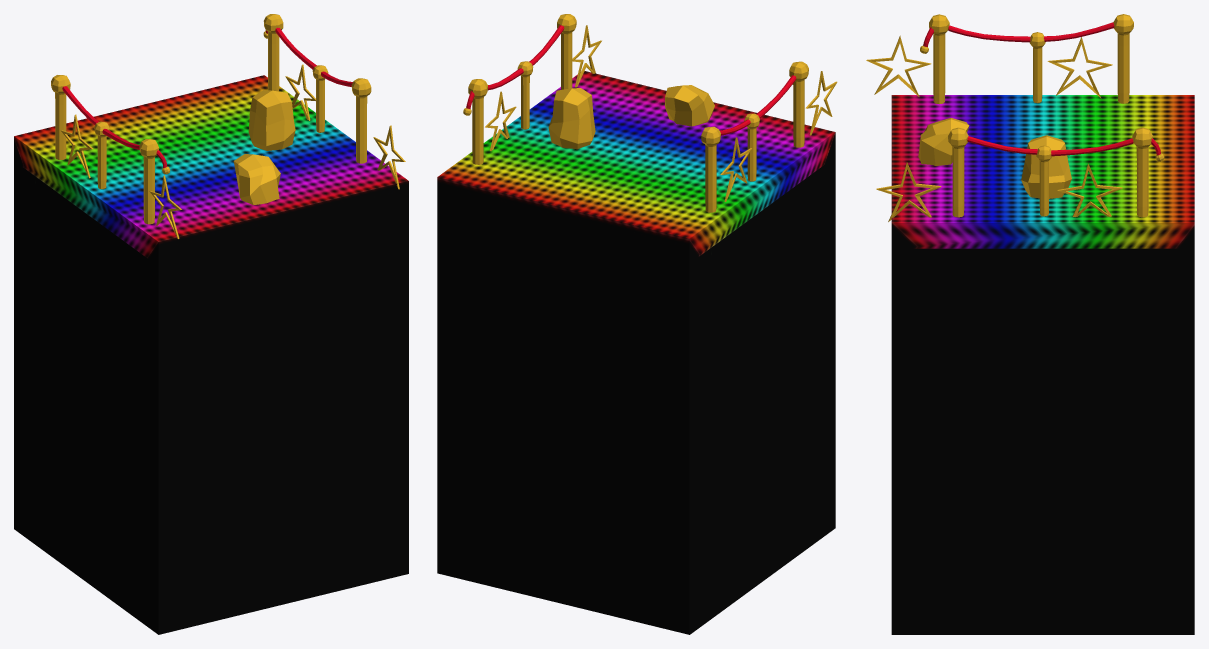
File: Plataforma Medio 2.fbx
The picture shows the model from 3 angles, left to right: view 1: azimuth 30°, elevation 25°; view 2: azimuth 150°, elevation 25°; view 3: azimuth 270°, elevation 25°; orthographic projection. The views are drawn at different scales.
Parts seen in each view (by area): view 1: Plataforma Mitad 2, Cube.012, Cube.009, Plane.003, Cube.011, Cube.021; view 2: Plataforma Mitad 2, Cube.012, Cube.009, Plane.003, Cube.011, Cube.021; view 3: Plataforma Mitad 2, Cube.012, Plane.003, Cube.021, Cube.009, Cube.011.
Part boxes in pixels (<box>): Plataforma Mitad 2: <box>14,75,408,634</box>; Cube.012: <box>51,14,371,224</box>; Cube.009: <box>248,90,295,150</box>; Plane.003: <box>61,64,405,238</box>; Cube.011: <box>233,154,280,204</box>; Cube.021: <box>62,27,352,174</box>; Plataforma Mitad 2: <box>437,71,835,634</box>; Cube.012: <box>468,14,808,212</box>; Cube.009: <box>548,88,595,149</box>; Plane.003: <box>485,25,837,201</box>; Cube.011: <box>665,85,714,126</box>; Cube.021: <box>463,25,796,135</box>; Plataforma Mitad 2: <box>891,95,1194,634</box>; Cube.012: <box>929,14,1152,217</box>; Plane.003: <box>866,35,1122,221</box>; Cube.021: <box>920,22,1164,161</box>; Cube.009: <box>1021,135,1071,198</box>; Cube.011: <box>918,118,969,165</box>.
Size of the model in its own units: 1000 by 1815 by 1084.
Materials: 1 (1 with a texture image).
